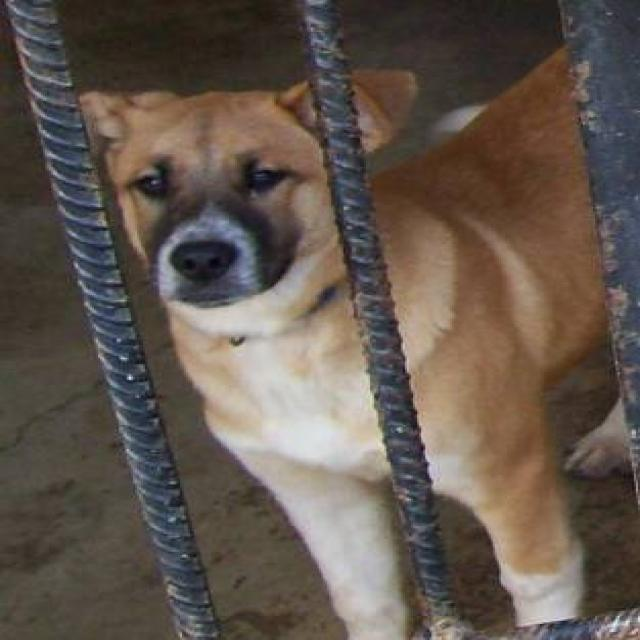dog: (74, 44, 638, 638)
